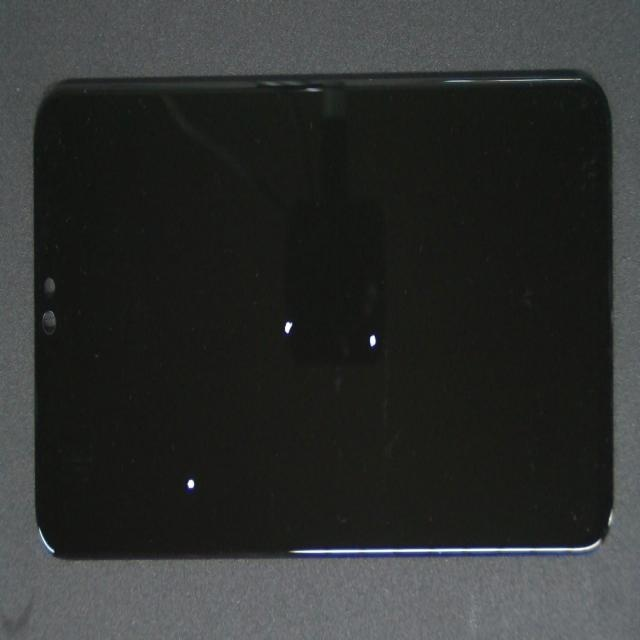stain: (199, 152, 559, 476), (160, 166, 447, 458), (101, 224, 279, 640)
